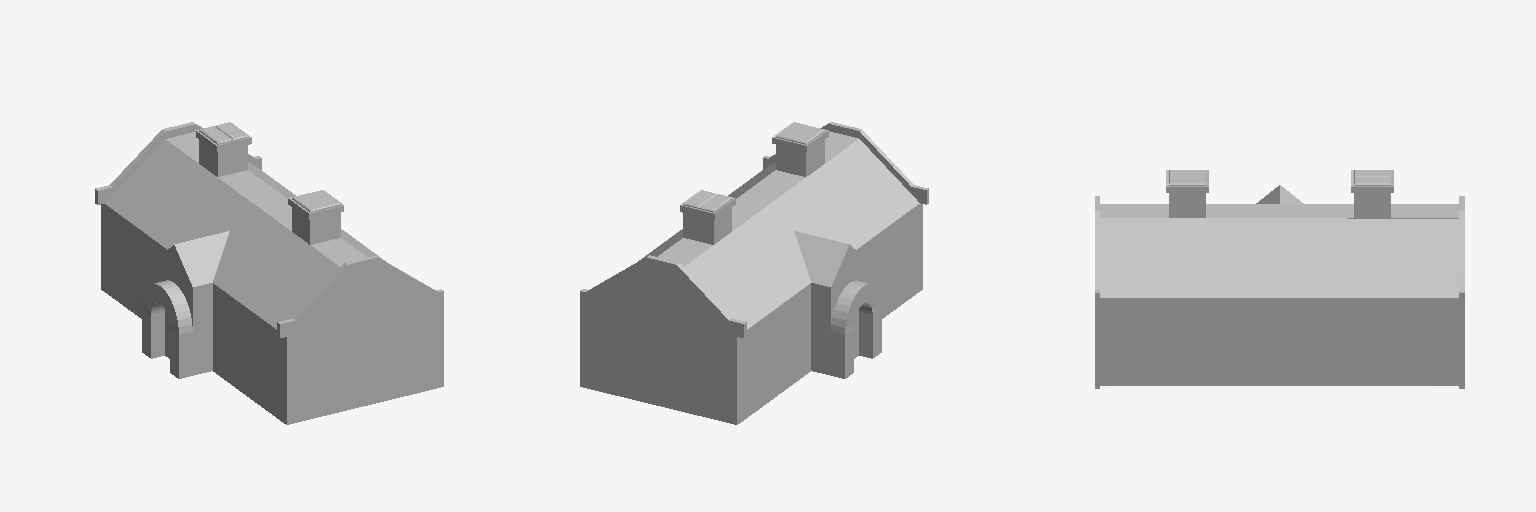
The model's file is house.obj.
3 renders of one model, left to right at view 1: azimuth 30°, elevation 25°; view 2: azimuth 150°, elevation 25°; view 3: azimuth 270°, elevation 25°, orthographic.
Parts seen in each view (by area): view 1: House_House_png; view 2: House_House_png; view 3: House_House_png.
Boxes of the visible parts, <box> form: House_House_png: <box>95,122,443,424</box>; House_House_png: <box>580,122,928,424</box>; House_House_png: <box>1095,170,1464,388</box>.
Size of the model in its own units: 11.33 by 9.78 by 19.